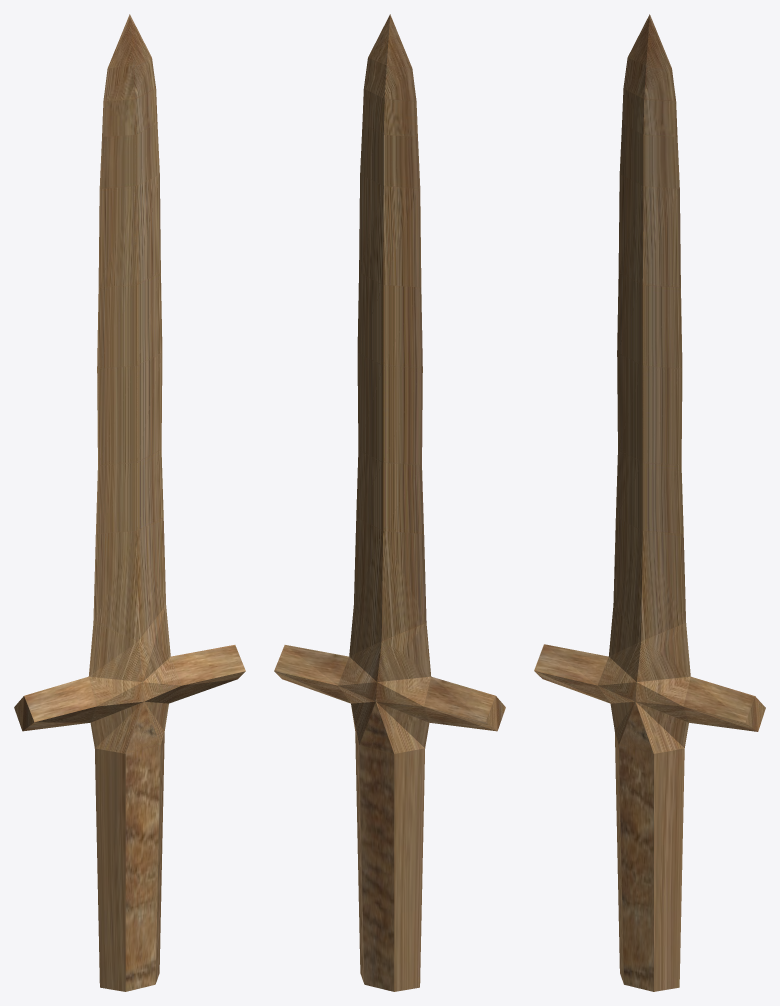
File: wooden-1H-sword.obj
3 views of the same model, side by side, from view 1: azimuth 30°, elevation 25°; view 2: azimuth 150°, elevation 25°; view 3: azimuth 330°, elevation 25° (orthographic).
Parts seen in each view (by area): view 1: Mesh_Mesh_KingdomShortswor; view 2: Mesh_Mesh_KingdomShortswor; view 3: Mesh_Mesh_KingdomShortswor.
Part boxes in pixels (box(x1,y1,x2,y2)): Mesh_Mesh_KingdomShortswor: box(14, 14, 245, 991); Mesh_Mesh_KingdomShortswor: box(274, 14, 505, 991); Mesh_Mesh_KingdomShortswor: box(534, 14, 765, 991).
Size of the model in its own units: 0.4267 by 1.83 by 0.0979.
2 materials, 2 textured.
